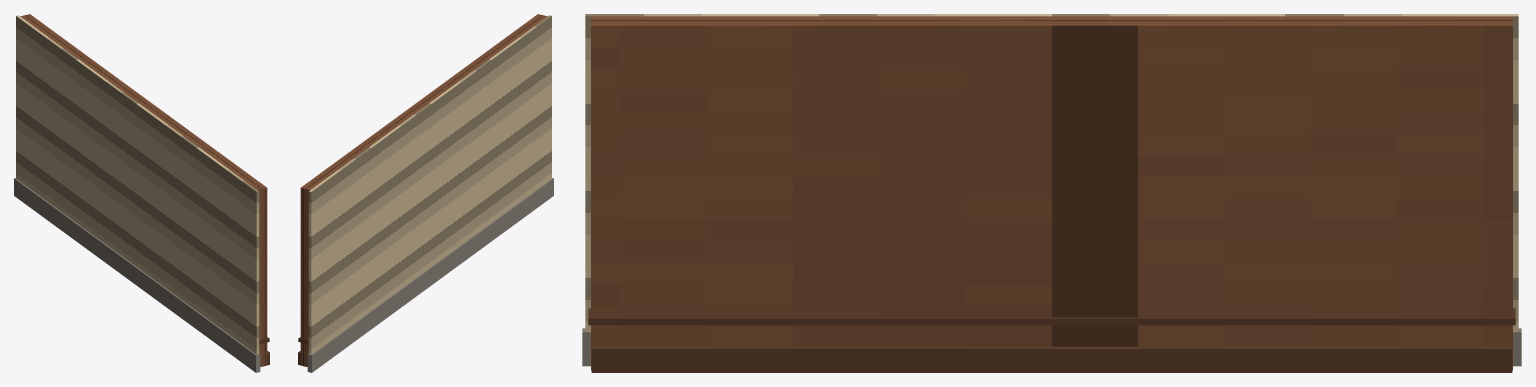
The model's file is left_wall.glb.
The picture shows the model from 3 angles, left to right: view 1: azimuth 30°, elevation 25°; view 2: azimuth 150°, elevation 25°; view 3: azimuth 270°, elevation 25°; orthographic projection. The views are drawn at different scales.
Parts seen in each view (by area): view 1: Box3, Box4, Box1; view 2: Box3, Box4, Box1; view 3: Box1, Box2, Box6, Box3.
Boxes of the visible parts, left/top/right/bottom form: Box3: left=16, top=15, right=259, bottom=354; Box4: left=14, top=178, right=260, bottom=372; Box1: left=20, top=14, right=267, bottom=366; Box3: left=308, top=15, right=551, bottom=354; Box4: left=307, top=178, right=553, bottom=372; Box1: left=300, top=14, right=547, bottom=366; Box1: left=591, top=16, right=1512, bottom=370; Box2: left=591, top=346, right=1512, bottom=372; Box6: left=588, top=308, right=1515, bottom=325; Box3: left=585, top=14, right=1518, bottom=331.
Bounding box in the file's own units: 0.25 × 2.64 × 6.42.
4 materials, 2 textured.
